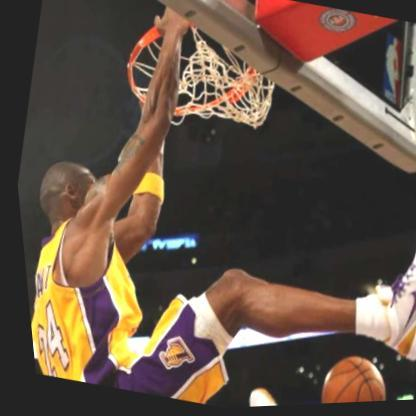basketball: (303, 351, 387, 406)
